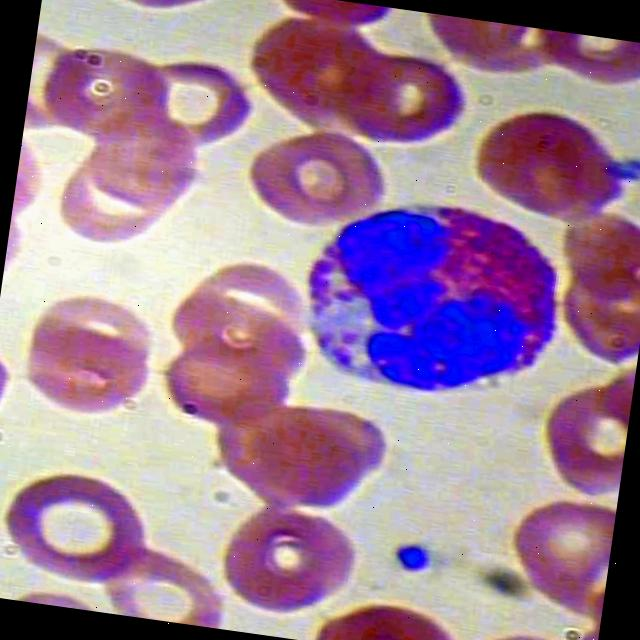Platelets: (388, 538, 446, 577)
RBC: (463, 94, 640, 231), (205, 491, 372, 626), (0, 465, 166, 592), (36, 35, 188, 153), (243, 118, 394, 236), (13, 314, 164, 432), (157, 327, 303, 443), (18, 281, 170, 384), (499, 492, 616, 619), (100, 535, 236, 630), (88, 108, 208, 214)
WBC: (280, 180, 577, 413)
